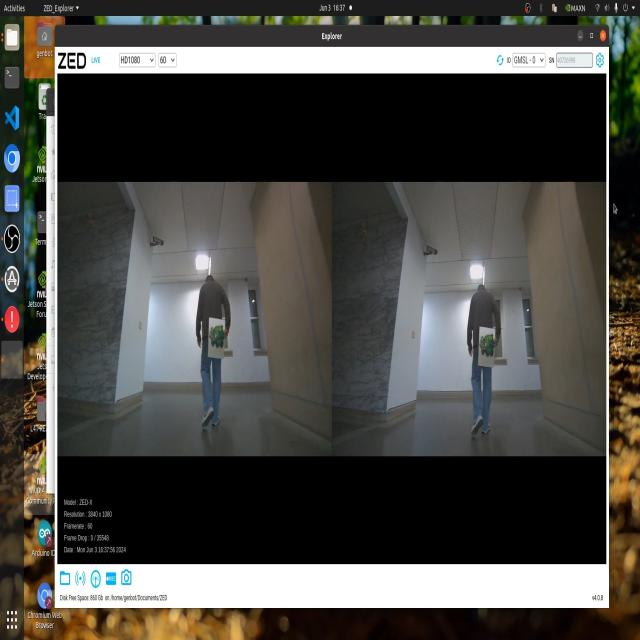green: (202, 318, 230, 353), (478, 331, 498, 365)
